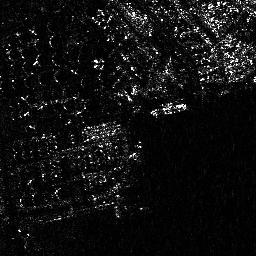ship: (150, 96, 191, 117)
